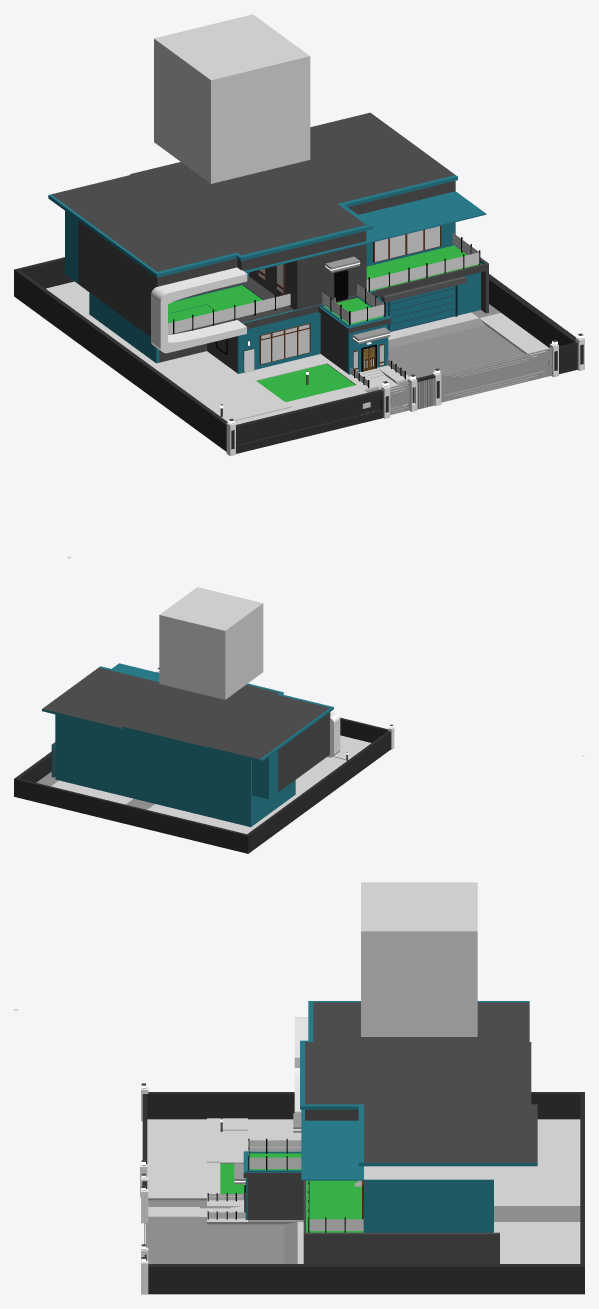
3 views of the same model, one above another, from view 1: azimuth 30°, elevation 25°; view 2: azimuth 150°, elevation 25°; view 3: azimuth 270°, elevation 25° (orthographic). The views are drawn at different scales.
Visible parts, largest first — view 1: Plane.002_Wall 3_0, Cube.093, Cube.065, Cube, Plane.002_Wall 2_0, Plane_Conctred_0, Plane_Wood Planks_0, Plane_Concrete Ground_0, Cube.024, Cube.074, Plane.002_Mat_0, Plane_Mat_0 (+4 smaller); view 2: Plane.002_Wall 3_0, Cube, Cube.093, Cube.065, Plane.002_Wall 2_0, Plane_Concrete Ground_0, Plane_Wood Planks_0, Cube.024, Plane_Conctred_0; view 3: Plane.002_Wall 3_0, Cube.065, Cube.093, Plane_Concrete Ground_0, Plane.002_Wall 2_0, Cube, Plane_Conctred_0, Plane_Wood Planks_0, Plane.002_Mat_0, Cube.024, Cube.049, Cube.039 (+3 smaller).
Part boxes in pixels (<box>): Plane.002_Wall 3_0: <box>51,112,455,336</box>; Cube.093: <box>154,14,310,183</box>; Cube.065: <box>14,257,577,453</box>; Cube: <box>89,257,488,374</box>; Plane.002_Wall 2_0: <box>48,174,486,301</box>; Plane_Conctred_0: <box>327,304,545,411</box>; Plane_Wood Planks_0: <box>46,281,283,416</box>; Plane_Concrete Ground_0: <box>221,312,549,424</box>; Cube.024: <box>151,267,247,353</box>; Cube.074: <box>441,348,551,402</box>; Plane.002_Mat_0: <box>168,245,481,323</box>; Plane_Mat_0: <box>256,364,355,401</box>; Plane.002_Wall 3_0: <box>42,667,330,792</box>; Cube: <box>51,714,295,827</box>; Cube.093: <box>159,587,263,699</box>; Cube.065: <box>14,717,390,853</box>; Plane.002_Wall 2_0: <box>42,663,333,799</box>; Plane_Concrete Ground_0: <box>51,735,371,823</box>; Plane_Wood Planks_0: <box>205,756,346,833</box>; Cube.024: <box>327,712,340,757</box>; Plane_Conctred_0: <box>36,771,154,809</box>; Plane.002_Wall 3_0: <box>305,1002,537,1162</box>; Cube.065: <box>140,1092,584,1294</box>; Cube.093: <box>361,882,477,1036</box>; Plane_Concrete Ground_0: <box>147,1118,580,1263</box>; Plane.002_Wall 2_0: <box>300,1001,537,1232</box>; Cube: <box>243,1151,499,1263</box>; Plane_Conctred_0: <box>145,1162,580,1263</box>; Plane_Wood Planks_0: <box>220,1129,580,1162</box>; Plane.002_Mat_0: <box>306,1180,363,1232</box>; Cube.024: <box>294,1017,308,1112</box>; Cube.049: <box>309,1219,363,1230</box>; Cube.039: <box>249,1140,301,1151</box>.
Size of what is drawn, in the model's own units: 354 by 162 by 296.
